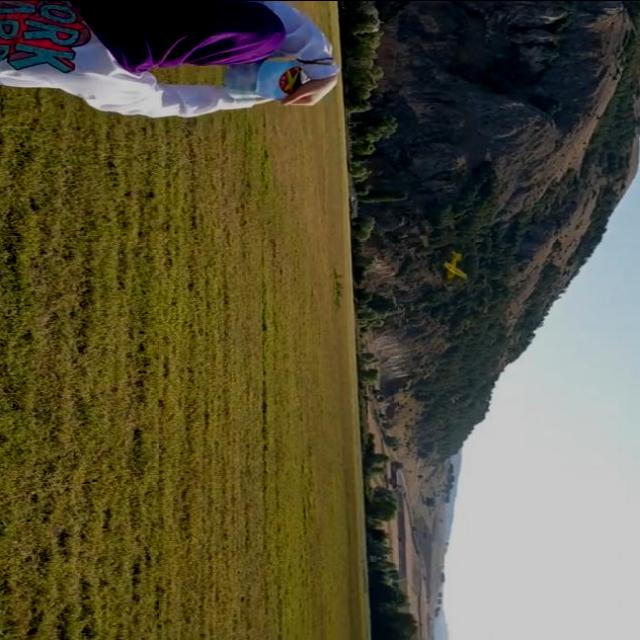plane: (442, 251, 468, 280)
